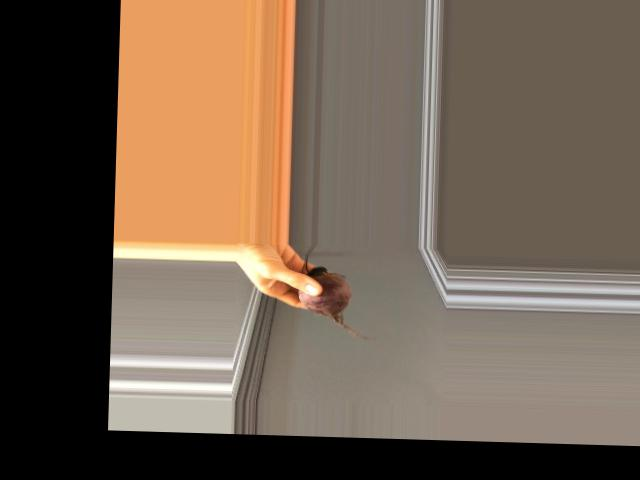beet: (297, 243, 380, 340)
